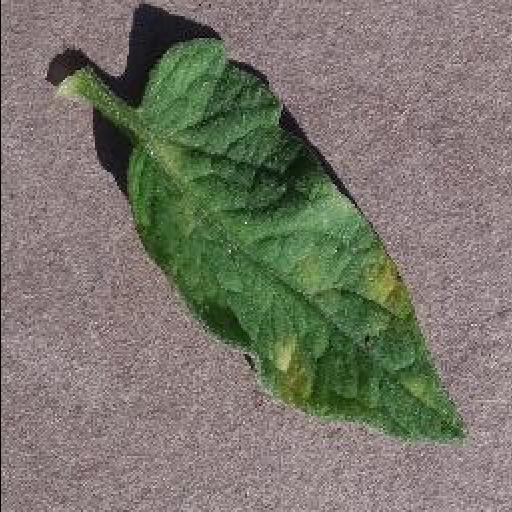disease_tomato: (127, 36, 465, 450)
